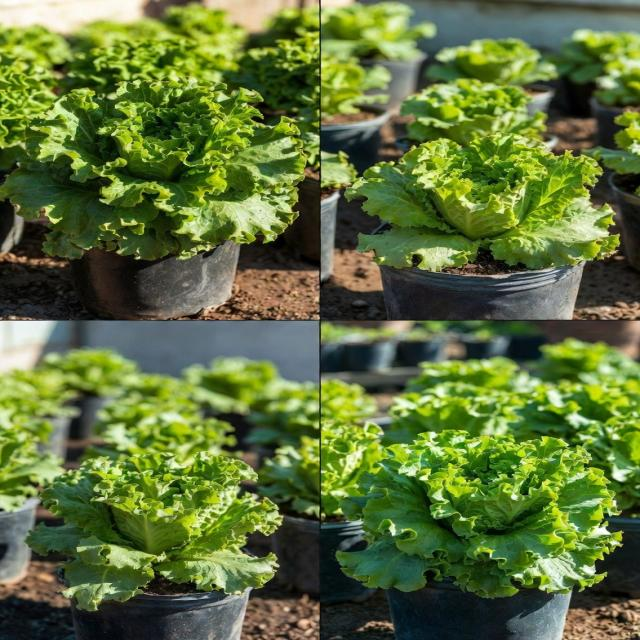inmadura: (27, 452, 282, 611), (347, 133, 618, 277)
lista_para_cosechar: (0, 77, 302, 261), (338, 430, 620, 598)
